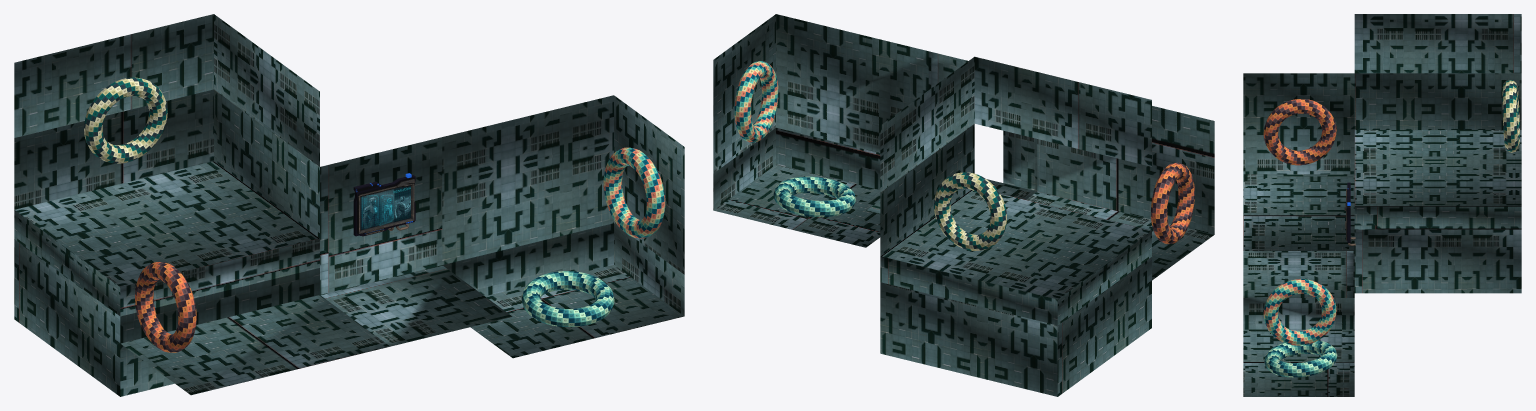
The model's file is room_2.glb.
3 views of the same model, side by side, from view 1: azimuth 30°, elevation 25°; view 2: azimuth 150°, elevation 25°; view 3: azimuth 270°, elevation 25° (orthographic). The views are drawn at different scales.
Parts seen in each view (by area): view 1: Cube.001, Torus.004, Torus.003, Torus.002, Torus.005, marco__0.001; view 2: Cube.001, Torus.004, Torus.003, Torus.002, Torus.005; view 3: Cube.001, Torus.003, Torus.002, Torus.005, Torus.004, marco__0.001.
Part boxes in pixels (box(x1,y1,x2,y2)): Cube.001: box(14, 14, 684, 396); Torus.004: box(84, 77, 167, 163); Torus.003: box(603, 147, 665, 238); Torus.002: box(135, 262, 196, 352); Torus.005: box(521, 271, 614, 326); marco__0.001: box(353, 173, 415, 236); Cube.001: box(713, 14, 1214, 396); Torus.004: box(934, 172, 1006, 250); Torus.003: box(734, 61, 778, 142); Torus.002: box(1151, 162, 1194, 244); Torus.005: box(773, 176, 855, 217); Cube.001: box(1243, 14, 1521, 396); Torus.003: box(1263, 279, 1336, 345); Torus.002: box(1263, 99, 1336, 165); Torus.005: box(1264, 340, 1337, 377); Torus.004: box(1502, 80, 1519, 152); marco__0.001: box(1344, 182, 1355, 245).
Bounding box in the file's own units: 12.12 × 6.02 × 7.5.
Materials: 6 (6 with a texture image).
